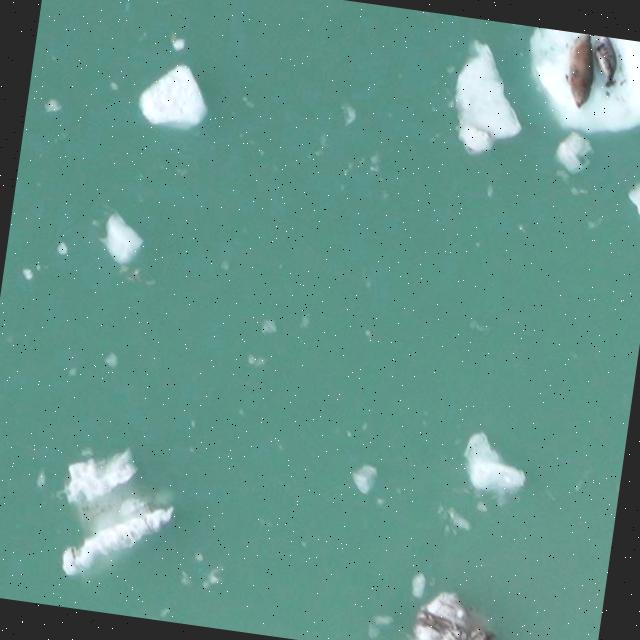seal: (559, 33, 602, 111), (593, 34, 622, 90)
